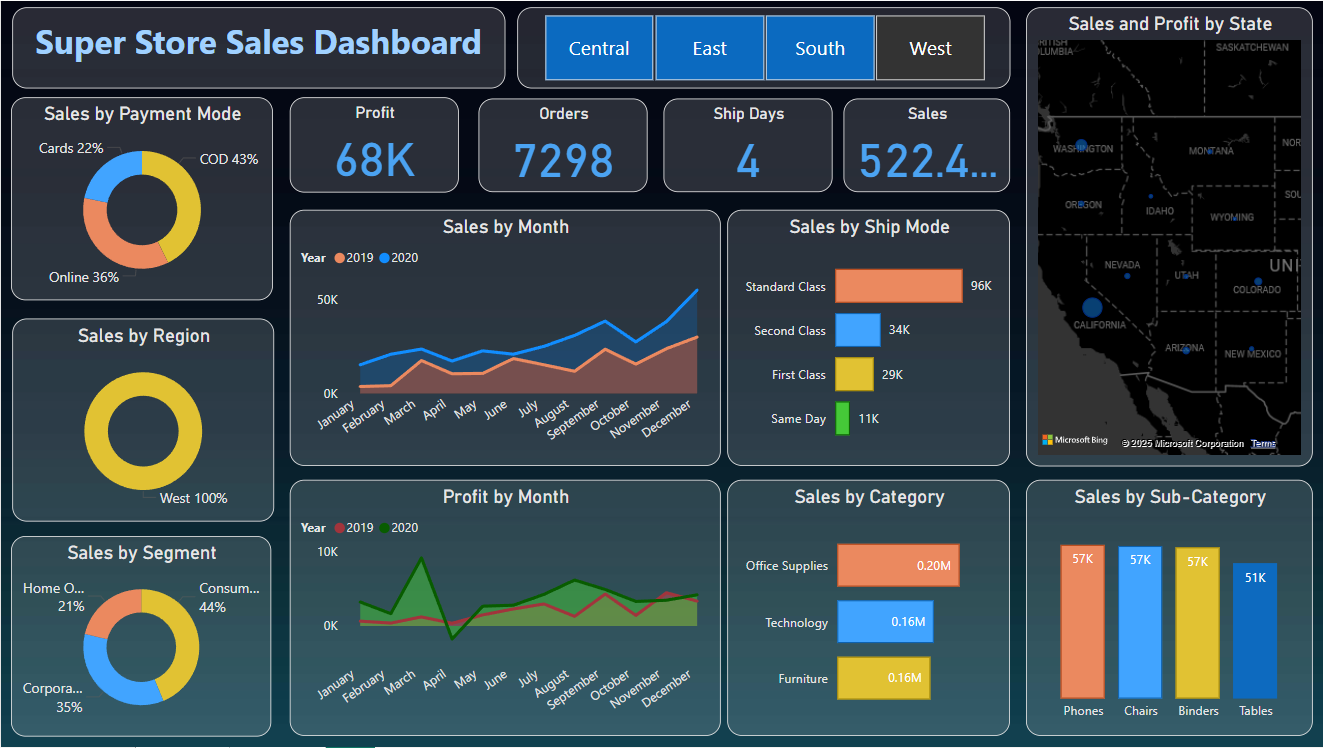

What the dashboard file says about the page in this screenshot:
{"tool":"powerbi","page":{"name":"Page 1","canvas":[1280,720],"ordinal":0},"visuals":[{"type":"clusteredBarChart","title":"Sales by Category","fields":{"Category":["Sheet1.Category"],"Y":["Sum(Sheet1.Sales)"]},"box":[701.2,462.4,273.1,247],"z":0},{"type":"clusteredColumnChart","title":"Sales by Sub-Category","fields":{"Category":["Sheet1.Sub-Category"],"Y":["Sum(Sheet1.Sales)"]},"box":[989.4,462.4,277.2,247],"z":1000},{"type":"clusteredBarChart","title":"Sales by Ship Mode","fields":{"Category":["Sheet1.Ship Mode"],"Y":["Sum(Sheet1.Sales)"]},"box":[701.2,201.7,273.1,247],"z":2000},{"type":"areaChart","title":"Sales by Month","fields":{"Series":["Sheet1.Order Date.Variation.Date Hierarchy.Year"],"Category":["Sheet1.Order Date.Variation.Date Hierarchy.Month","Sheet1.Order Date.Variation.Date Hierarchy.Day"],"Y":["Sum(Sheet1.Sales)"]},"box":[278.6,201.7,415.8,247],"z":3000},{"type":"areaChart","title":"Profit by Month ","fields":{"Category":["Sheet1.Order Date.Variation.Date Hierarchy.Month","Sheet1.Order Date.Variation.Date Hierarchy.Day"],"Y":["Sum(Sheet1.Profit)"],"Series":["Sheet1.Order Date.Variation.Date Hierarchy.Year"]},"box":[278.6,462.4,415.8,247],"z":4000},{"type":"map","title":"Sales and Profit by State","fields":{"Category":["Sheet1.State"],"Size":["Sum(Sheet1.Sales)"]},"box":[989.4,5.5,277.2,443.2],"z":5000},{"type":"donutChart","title":"Sales by Segment","fields":{"Category":["Sheet1.Segment"],"Y":["Sum(Sheet1.Sales)"]},"box":[9.6,516,251.1,193.5],"z":6000},{"type":"donutChart","title":"Sales by Payment Mode","fields":{"Category":["Sheet1.Payment Mode"],"Y":["Sum(Sheet1.Sales)"]},"box":[9.6,93.3,252.5,196.2],"z":7000},{"type":"donutChart","title":"Sales by Region","fields":{"Category":["Sheet1.Region"],"Y":["Sum(Sheet1.Sales)"]},"box":[11,306,252.5,196.2],"z":8000},{"type":"slicer","fields":{"Values":["Sheet1.Region"]},"box":[498.1,5.5,476.2,78.2],"z":9000},{"type":"textbox","box":[11,5.5,476.2,78.2],"z":10000},{"type":"card","title":"Sales","fields":{"Values":["Sum(Sheet1.Sales)"]},"box":[813.7,94.7,160.5,90.6],"z":11000},{"type":"card","title":"Orders","fields":{"Values":["Sum(Sheet1.Quantity)"]},"box":[461.1,94.7,163.3,90.6],"z":12000},{"type":"card","title":"Profit","fields":{"Values":["Sum(Sheet1.Profit)"]},"box":[278.6,93.3,163.3,91.9],"z":13000},{"type":"card","title":"Ship Days","fields":{"Values":["Avg(Sheet1.AvgDelivery)"]},"box":[639.5,94.7,163.3,90.6],"z":14000}]}

Visuals, with their boxes in screenshot pixels (x1, y1, x2, y2), scaled from the page's 1280x720 canvas onto the 1323x748 screenshot:
"Sales by Category" clusteredBarChart: 725:480:1007:737
"Sales by Sub-Category" clusteredColumnChart: 1023:480:1309:737
"Sales by Ship Mode" clusteredBarChart: 725:210:1007:466
"Sales by Month" areaChart: 288:210:718:466
"Profit by Month " areaChart: 288:480:718:737
"Sales and Profit by State" map: 1023:6:1309:466
"Sales by Segment" donutChart: 10:536:269:737
"Sales by Payment Mode" donutChart: 10:97:271:301
"Sales by Region" donutChart: 11:318:272:522
slicer - Sheet1.Region: 515:6:1007:87
textbox: 11:6:504:87
"Sales" card: 841:98:1007:193
"Orders" card: 477:98:645:193
"Profit" card: 288:97:457:192
"Ship Days" card: 661:98:830:193
